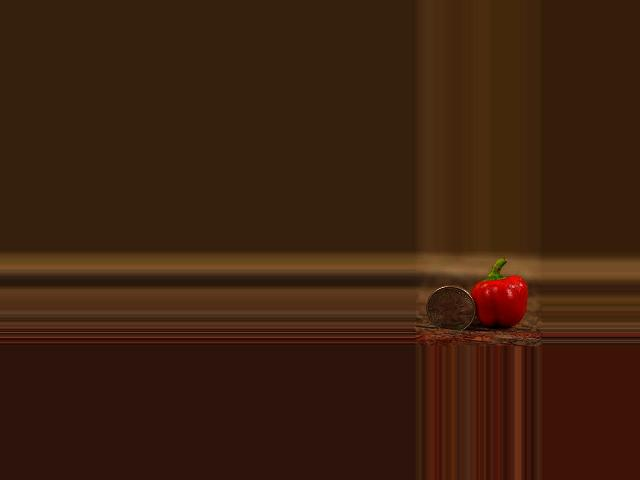bell_pepper: (473, 258, 528, 330)
